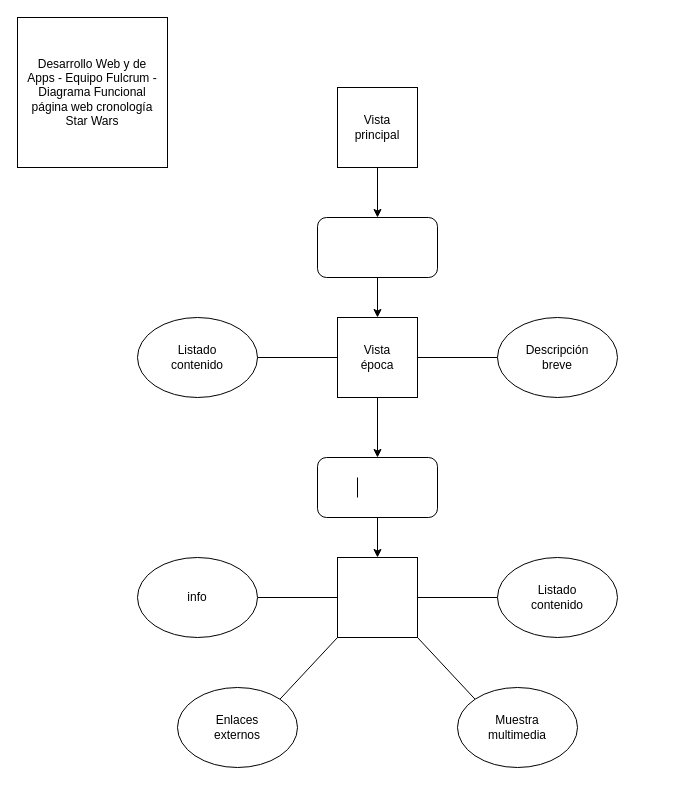
This 675x785 diagram has some shape labels left out. The centre of each missing label's shape, as x and y in pixels:
Seleccionar contenido: point (377, 487)
Seleccionar época: point (377, 247)
Vista contenido: point (377, 597)
